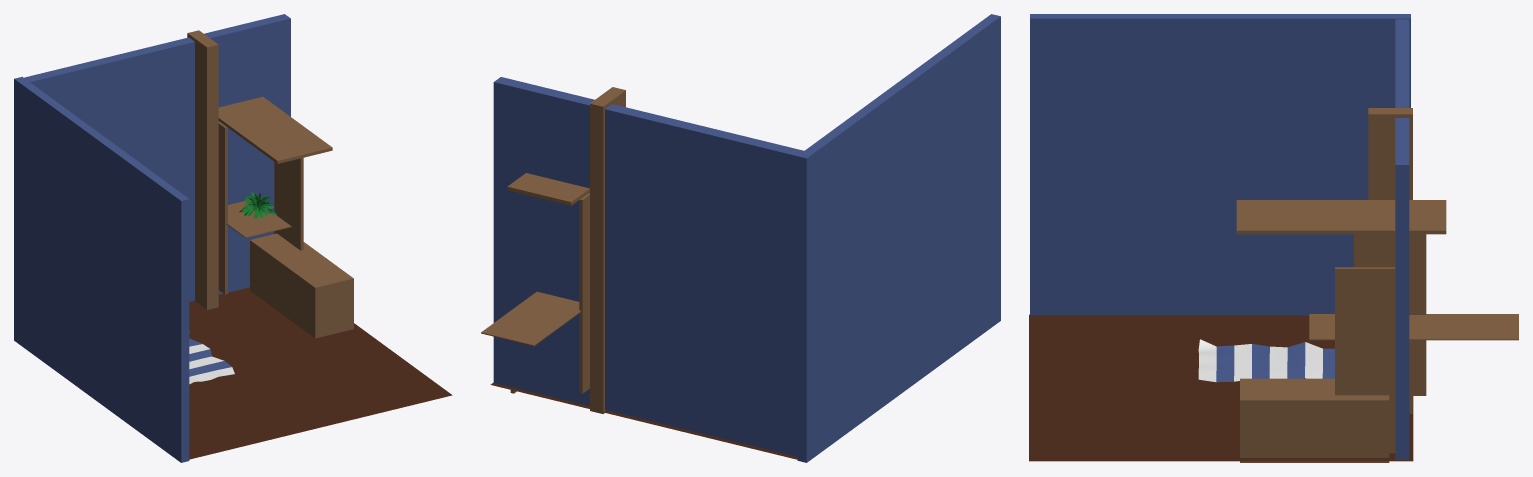
The model's file is room1.fbx.
The picture shows the model from 3 angles, left to right: view 1: azimuth 30°, elevation 25°; view 2: azimuth 150°, elevation 25°; view 3: azimuth 270°, elevation 25°; orthographic projection. The views are drawn at different scales.
Parts seen in each view (by area): view 1: Cube_1, Cube, Plane, Cube_5, Cube_5_6, Cube_5_3, Cube_5_4, Cube_5_5, Cube_5_2, Plane_1, _null__4; view 2: Cube, Cube_1, Cube_5_6, Cube_5_2, Cube_5_5, Cube_5_3, Plane; view 3: Cube_1, Plane, Cube_5, Cube_5_4, Cube_5_3, Cube, Plane_1, Cube_5_5, Cube_5_2, Cube_5_6.
Part boxes in pixels (x1=…): Cube_1: x1=14, y1=76, x2=189, y2=462; Cube: x1=24, y1=14, x2=290, y2=301; Plane: x1=189, y1=287, x2=452, y2=459; Cube_5: x1=250, y1=233, x2=353, y2=338; Cube_5_6: x1=187, y1=30, x2=218, y2=309; Cube_5_3: x1=218, y1=96, x2=332, y2=163; Cube_5_4: x1=274, y1=157, x2=303, y2=250; Cube_5_5: x1=218, y1=121, x2=227, y2=294; Cube_5_2: x1=226, y1=201, x2=291, y2=237; Plane_1: x1=189, y1=332, x2=234, y2=384; _null__4: x1=239, y1=192, x2=276, y2=218; Cube: x1=493, y1=77, x2=803, y2=456; Cube_1: x1=797, y1=14, x2=1000, y2=462; Cube_5_6: x1=590, y1=87, x2=625, y2=413; Cube_5_2: x1=481, y1=291, x2=581, y2=346; Cube_5_5: x1=579, y1=193, x2=589, y2=393; Cube_5_3: x1=507, y1=173, x2=589, y2=205; Plane: x1=490, y1=382, x2=797, y2=459; Cube_1: x1=1030, y1=14, x2=1410, y2=315; Plane: x1=1029, y1=314, x2=1413, y2=461; Cube_5: x1=1240, y1=378, x2=1389, y2=462; Cube_5_4: x1=1335, y1=267, x2=1395, y2=453; Cube_5_3: x1=1236, y1=200, x2=1446, y2=234; Cube: x1=1395, y1=19, x2=1409, y2=459; Plane_1: x1=1198, y1=339, x2=1334, y2=382; Cube_5_5: x1=1354, y1=234, x2=1426, y2=395; Cube_5_2: x1=1309, y1=314, x2=1518, y2=340; Cube_5_6: x1=1368, y1=108, x2=1412, y2=413.
Size of what is drawn, in the model's own units: 675 by 637 by 927.
